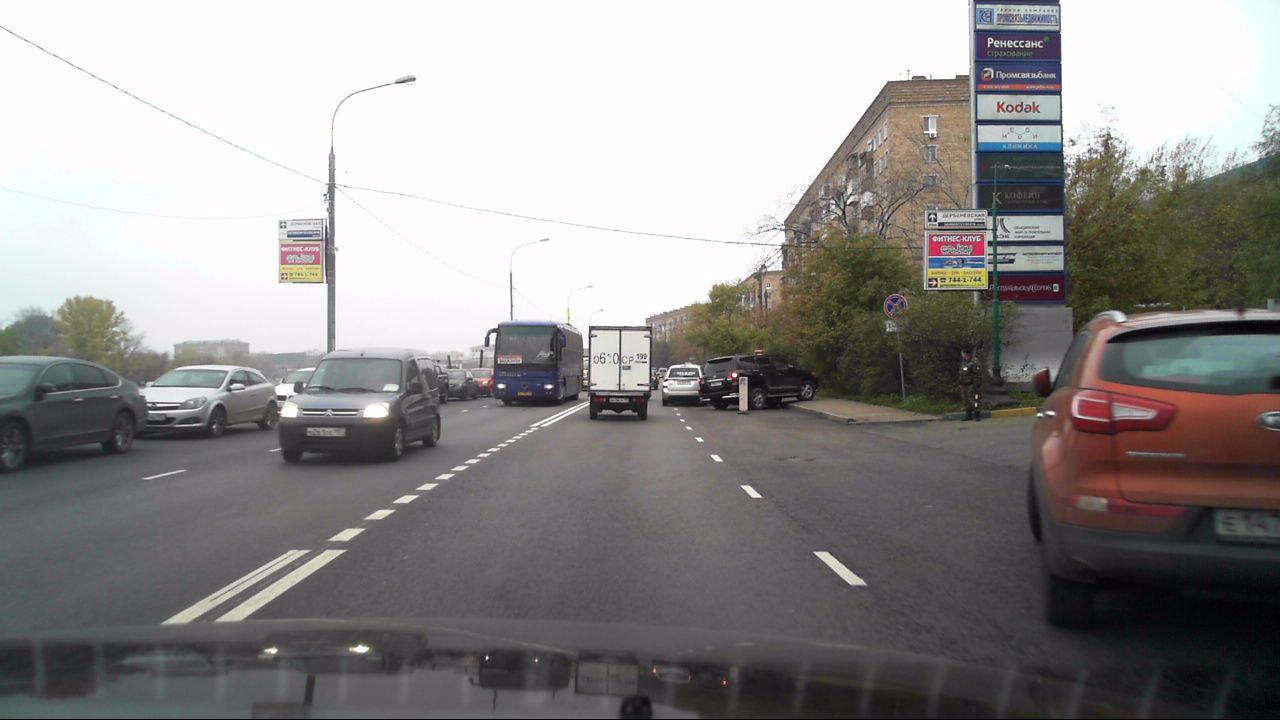No Parking: (883, 292, 909, 320)
